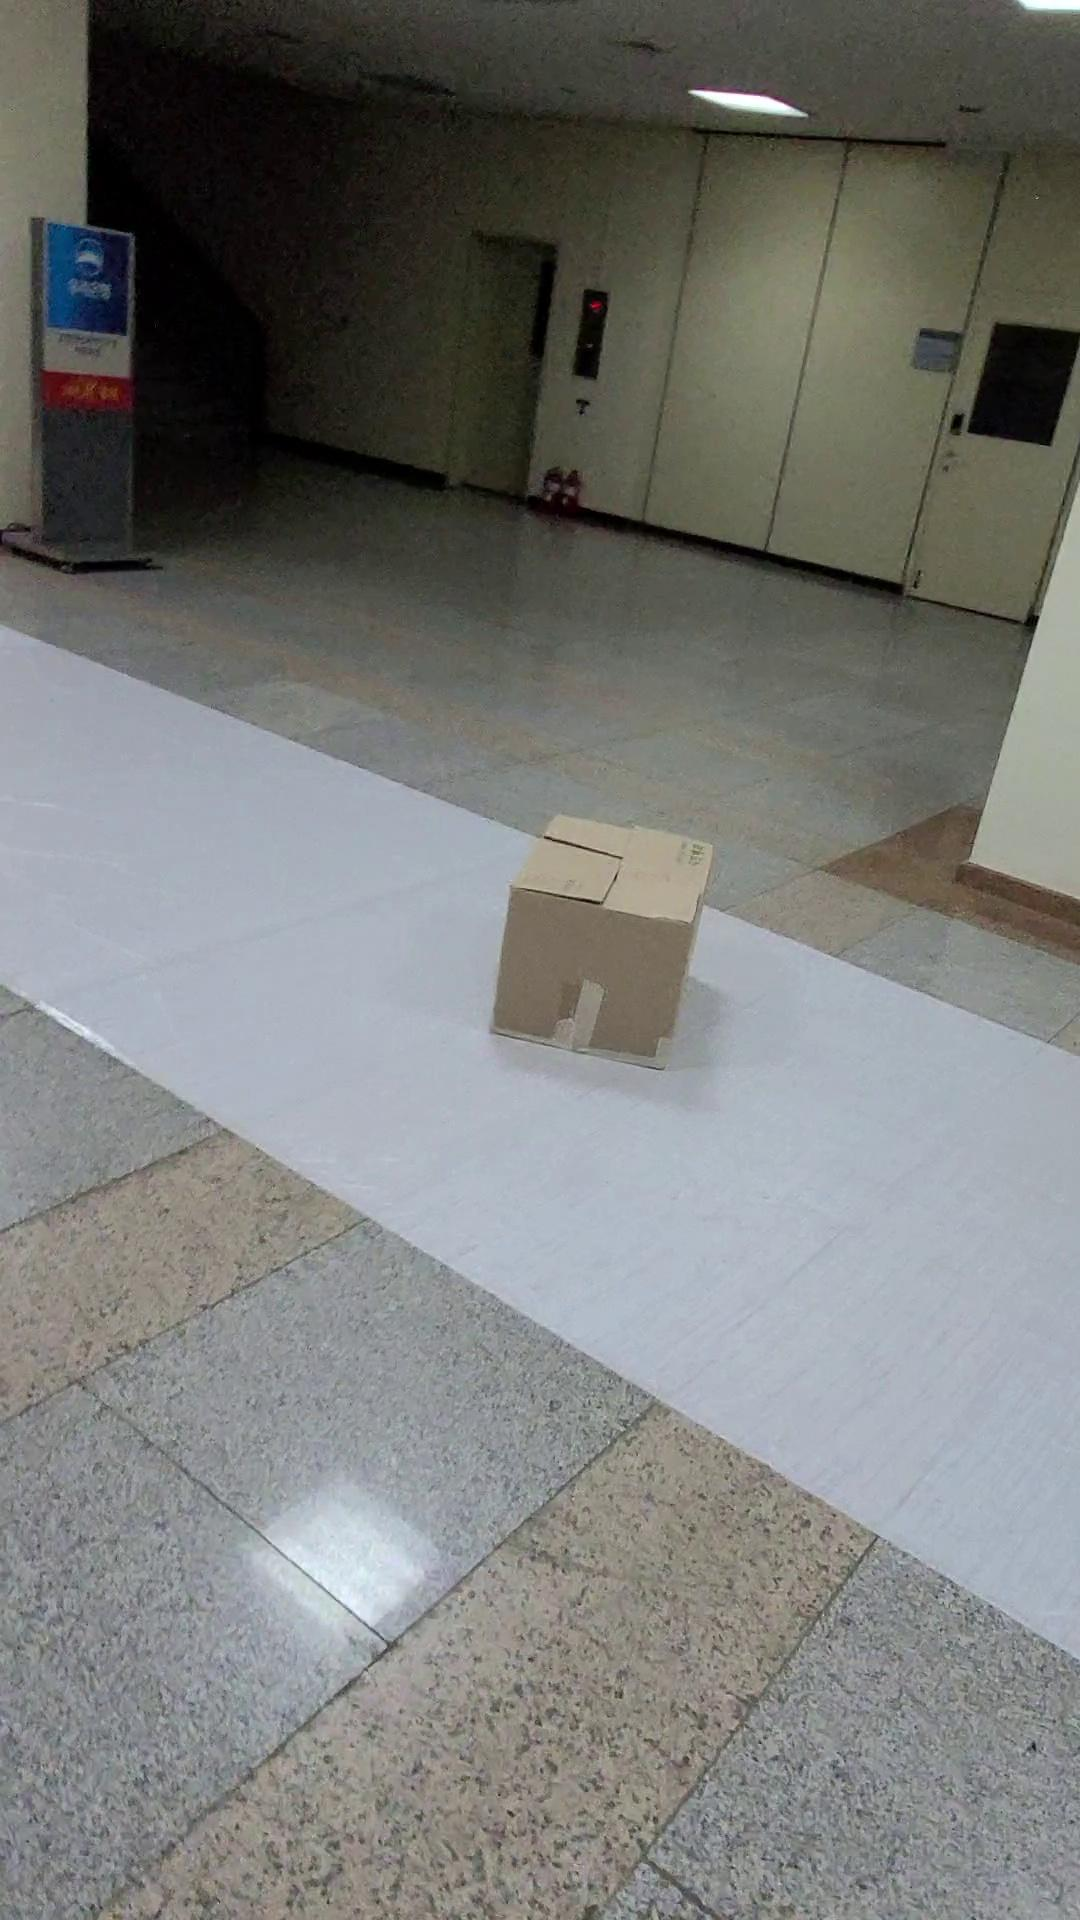Box: (454, 785, 757, 1117)
